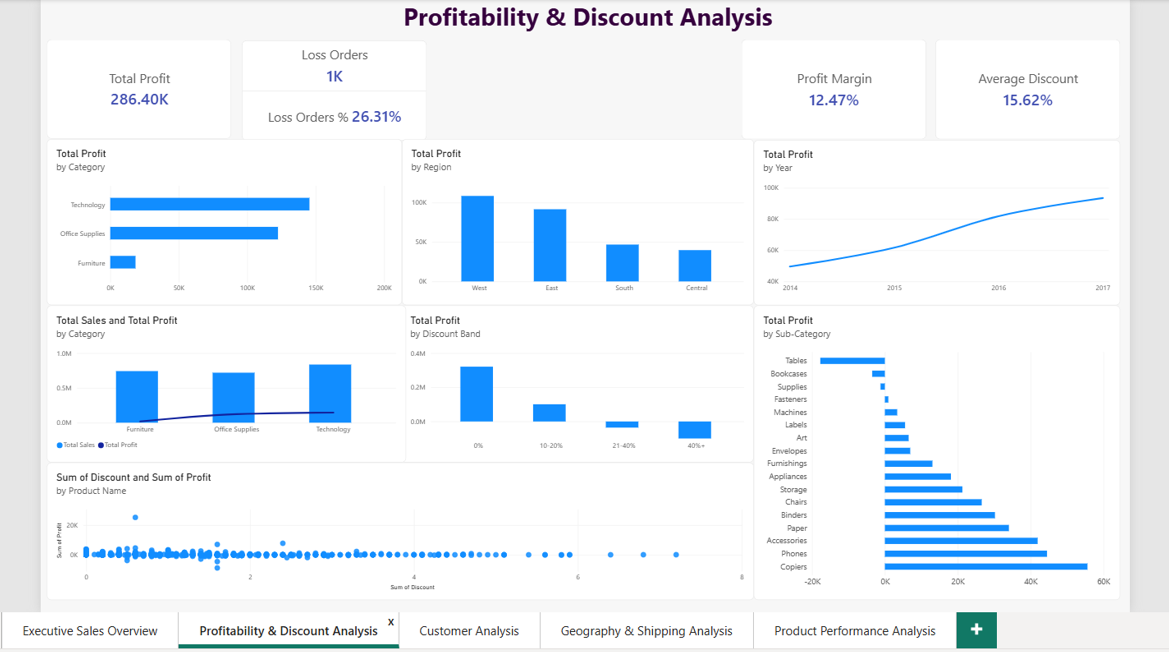

Layout of this report page (visuals, bound fields, positions):
{"tool":"powerbi","page":{"name":"Profitability & Discount Analysis","canvas":[1920,1080],"ordinal":1},"visuals":[{"type":"textbox","box":[10.9,0,1909.2,139.3],"z":0},{"type":"cardVisual","fields":{"Data":["Orders.Total Profit"]},"box":[10.9,70.6,325.7,175.5],"z":1000},{"type":"cardVisual","fields":{"Data":["Orders.Profit Margin"]},"box":[1236,70.6,326,176],"z":2000},{"type":"cardVisual","fields":{"Data":["Orders.Average Discount"]},"box":[1578,70.6,326,176],"z":3000},{"type":"cardVisual","fields":{"Data":["Orders.Loss Orders"]},"box":[354.7,72.4,326,176],"z":4000},{"type":"clusteredBarChart","fields":{"Category":["Orders.Category","Orders.Sub-Category"],"Y":["Orders.Total Profit"]},"box":[10.9,246.1,626.1,293.2],"z":5000},{"type":"clusteredColumnChart","fields":{"Category":["Orders.Discount Band"],"Y":["Orders.Total Profit"]},"box":[635.2,539.3,622.5,276.9],"z":6000},{"type":"lineClusteredColumnComboChart","fields":{"Category":["Orders.Category","Orders.Sub-Category"],"Y":["Orders.Total Sales"],"Y2":["Orders.Total Profit"]},"box":[10.9,539.3,633.4,276.9],"z":7000},{"type":"clusteredBarChart","fields":{"Category":["Orders.Sub-Category"],"Y":["Orders.Total Profit"]},"box":[1257.7,539.3,646,519.4],"z":8000},{"type":"clusteredColumnChart","fields":{"Category":["Orders.Region"],"Y":["Orders.Total Profit"]},"box":[637,246.1,620.7,293.2],"z":9000},{"type":"scatterChart","fields":{"Category":["Orders.Product Name"],"X":["Sum(Orders.Discount)"],"Y":["Sum(Orders.Profit)"]},"box":[10.9,816.2,1246.9,242.5],"z":10000},{"type":"lineChart","fields":{"Category":["DimDate.Year"],"Y":["Orders.Total Profit"]},"box":[1257.7,247.9,646,291.4],"z":11000}]}

Visuals, with their boxes on the page's 1920x1080 design canvas (x1, y1, x2, y2). These are canvas units, not pixel positions in the 1169x652 screenshot, which may show the page scaled, cropped or inside an application window:
textbox: (x1=11, y1=0, x2=1920, y2=139)
cardVisual - Orders.Total Profit: (x1=11, y1=71, x2=337, y2=246)
cardVisual - Orders.Profit Margin: (x1=1236, y1=71, x2=1562, y2=247)
cardVisual - Orders.Average Discount: (x1=1578, y1=71, x2=1904, y2=247)
cardVisual - Orders.Loss Orders: (x1=355, y1=72, x2=681, y2=248)
clusteredBarChart - Orders.Category x Orders.Sub-Category: (x1=11, y1=246, x2=637, y2=539)
clusteredColumnChart - Orders.Discount Band x Orders.Total Profit: (x1=635, y1=539, x2=1258, y2=816)
lineClusteredColumnComboChart - Orders.Category x Orders.Sub-Category: (x1=11, y1=539, x2=644, y2=816)
clusteredBarChart - Orders.Sub-Category x Orders.Total Profit: (x1=1258, y1=539, x2=1904, y2=1059)
clusteredColumnChart - Orders.Region x Orders.Total Profit: (x1=637, y1=246, x2=1258, y2=539)
scatterChart - Orders.Product Name x Sum(Orders.Discount): (x1=11, y1=816, x2=1258, y2=1059)
lineChart - DimDate.Year x Orders.Total Profit: (x1=1258, y1=248, x2=1904, y2=539)
